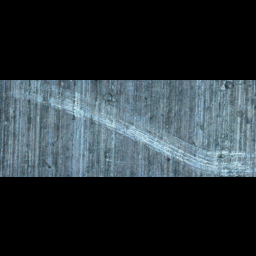d: (180, 148, 255, 176), (12, 84, 78, 112), (69, 102, 135, 129), (134, 127, 188, 153)
